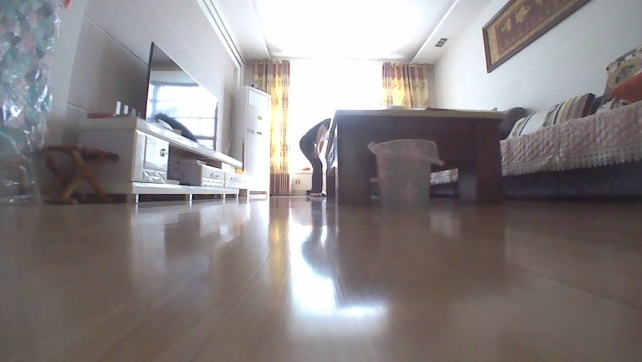TV_stand: (72, 114, 249, 205)
sofa: (427, 42, 641, 201)
tea_table: (324, 105, 508, 209)
